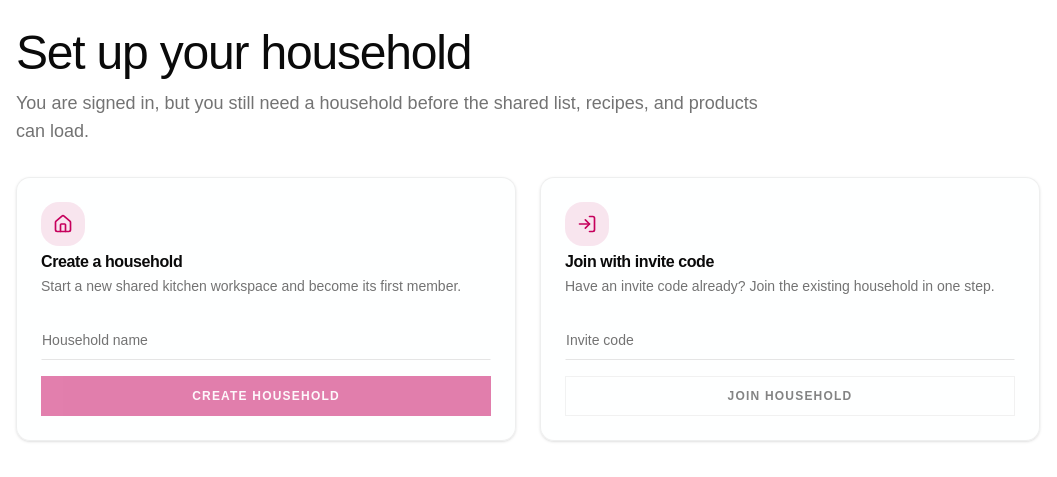
Test: HouseholdSetupPage › shows a localized invite-code error when joining fails
The image size is (1057, 477).
Type "BADCODE" into the field with placeholder "Invite code" at (790, 340), box [565,320,1015,360]
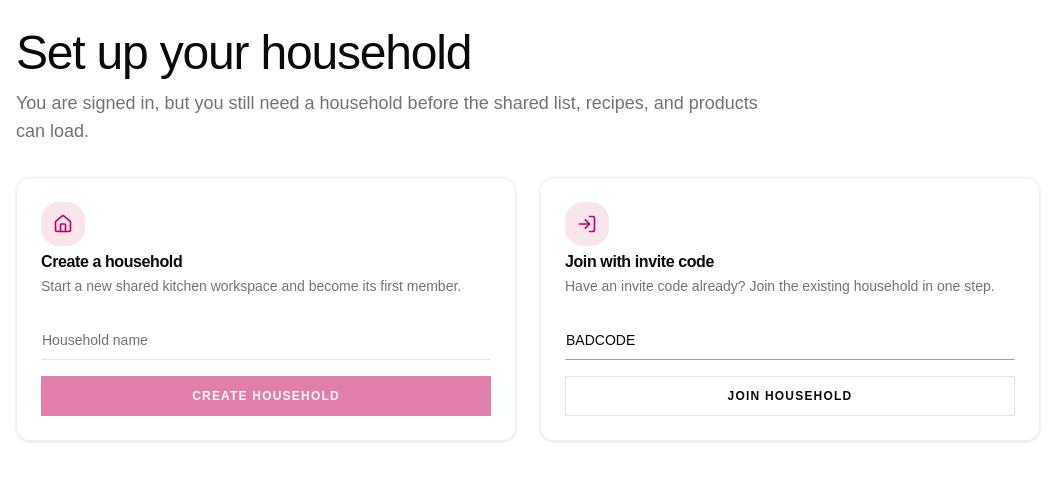
Click the button "Join household" at (790, 396), box [565,376,1015,416]
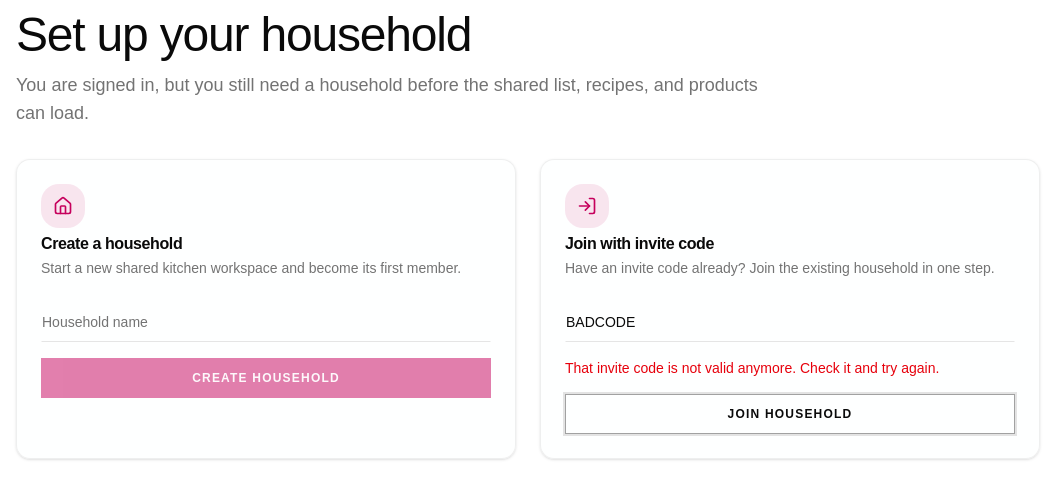
Expected: the text "That invite code is not valid anymore. Check it and try again." is shown, [565,360,939,376]
